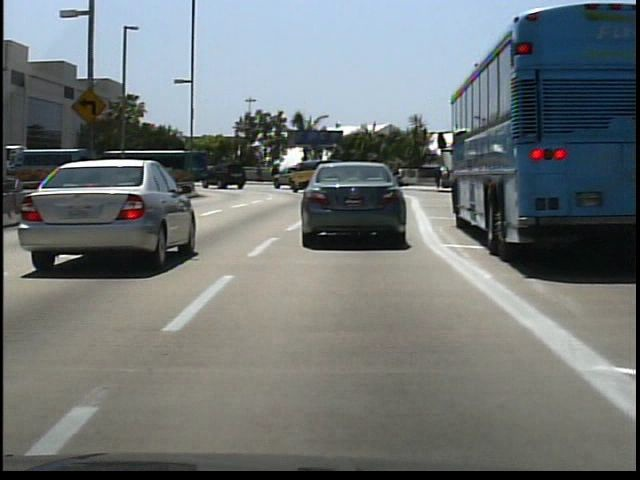person: (431, 164, 444, 191), (255, 160, 265, 181)
